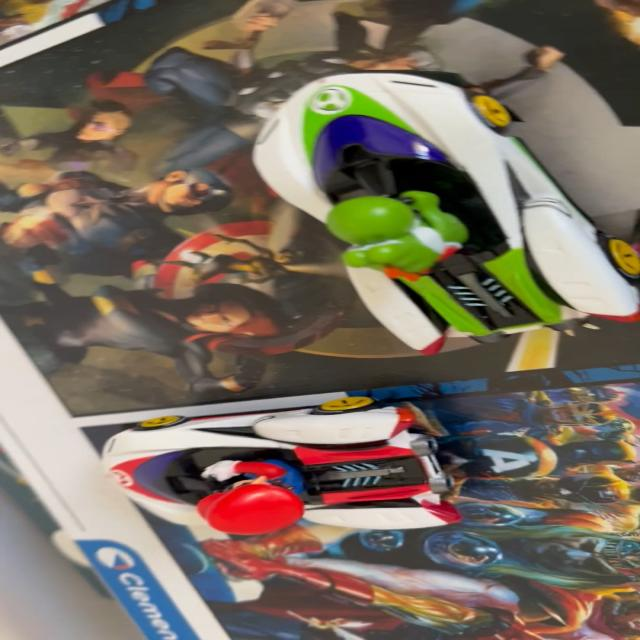mario: (83, 392, 479, 545)
yoshi: (228, 53, 638, 370)
